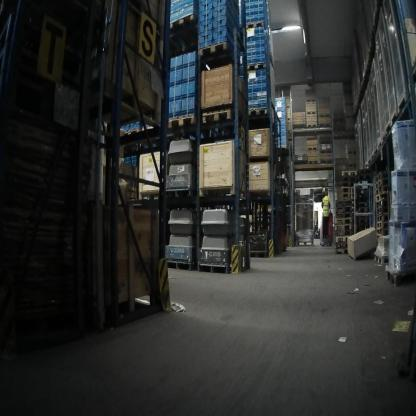pallets: (161, 104, 272, 133), (367, 168, 394, 277), (332, 173, 356, 252), (197, 34, 230, 63), (157, 256, 199, 273), (196, 262, 231, 274), (242, 62, 275, 74)
